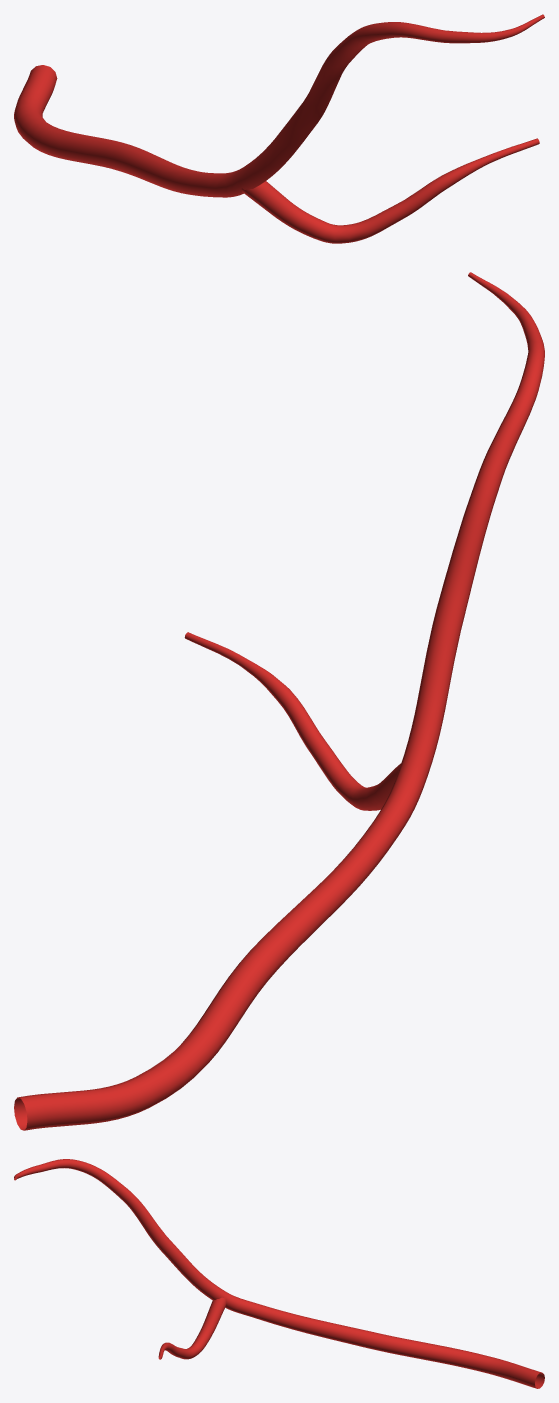
Rendered from circulatorio-orbitofrontal-branches-of-anterior-cerebral-artery-l.glb.
3 views of the same model, one above another, from view 1: azimuth 30°, elevation 25°; view 2: azimuth 150°, elevation 25°; view 3: azimuth 270°, elevation 25° (orthographic). The views are drawn at different scales.
Parts seen in each view (by area): view 1: Orbitofrontal branches of anterior cerebral artery.l; view 2: Orbitofrontal branches of anterior cerebral artery.l; view 3: Orbitofrontal branches of anterior cerebral artery.l.
Boxes of the visible parts, x1,y1,x2,y2 form: Orbitofrontal branches of anterior cerebral artery.l: [14, 14, 544, 243]; Orbitofrontal branches of anterior cerebral artery.l: [14, 272, 544, 1130]; Orbitofrontal branches of anterior cerebral artery.l: [14, 1159, 544, 1388].
Size of the model in its own units: 0.0147 by 0.0208 by 0.0436.
